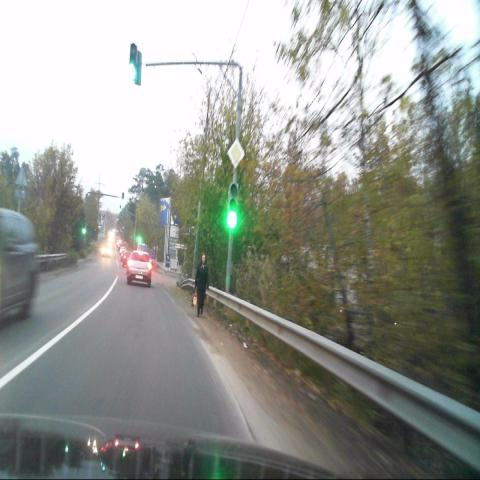2_1: (228, 139, 244, 168)
